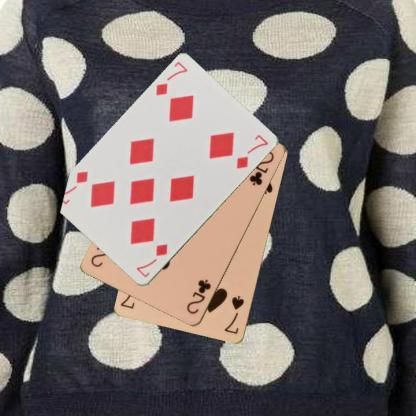2c: (184, 277, 212, 315)
7d: (153, 60, 189, 98), (134, 242, 170, 279)
7s: (222, 293, 245, 336)
